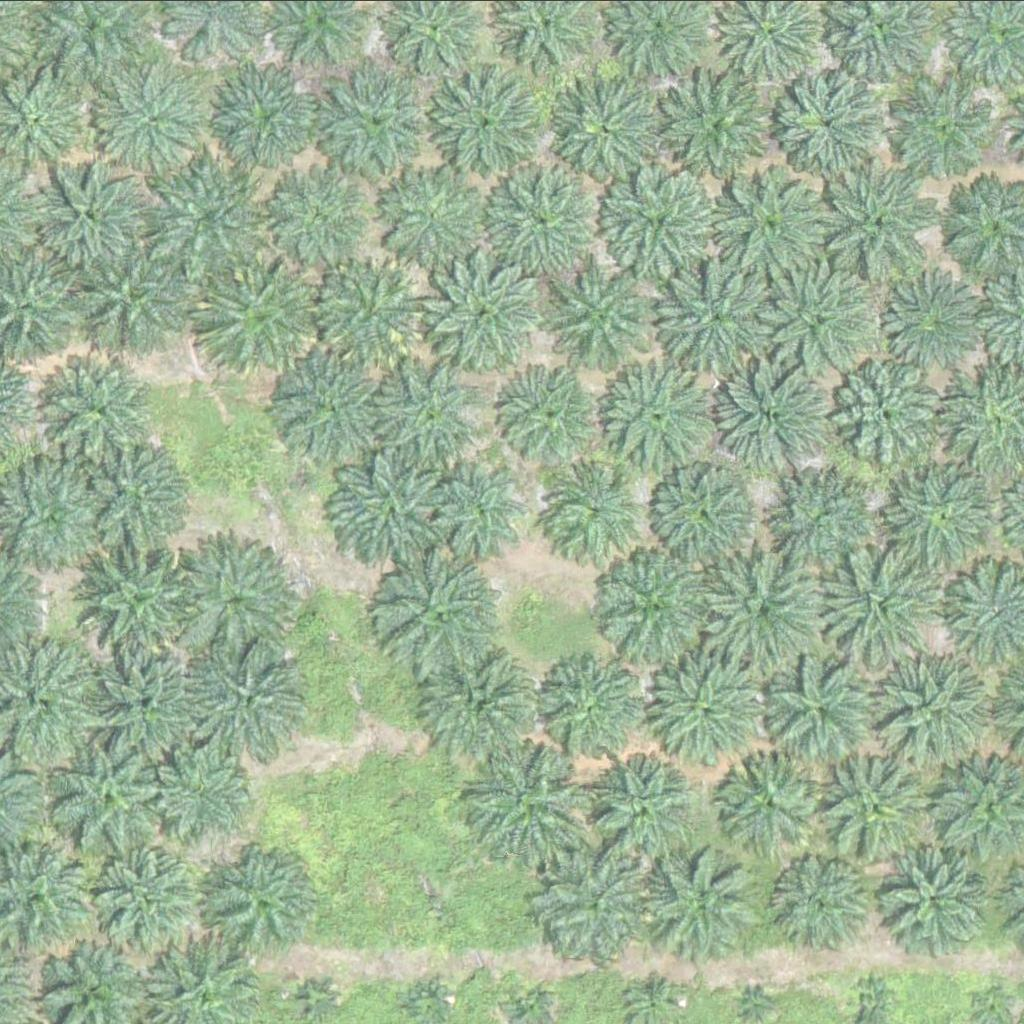Kelapa_Sawit: (50, 737, 176, 862), (186, 637, 312, 762), (71, 538, 197, 663), (175, 534, 301, 659), (329, 447, 455, 572), (382, 553, 508, 678), (467, 736, 593, 861), (700, 546, 826, 671), (590, 544, 716, 669), (868, 649, 994, 774), (816, 542, 942, 667), (204, 254, 329, 379), (87, 848, 201, 961), (149, 735, 263, 848), (421, 646, 535, 759), (206, 844, 319, 957), (79, 443, 192, 556), (36, 156, 149, 269), (216, 60, 329, 173), (427, 70, 540, 183), (423, 252, 536, 365), (550, 255, 663, 368), (663, 261, 776, 374), (597, 362, 710, 475), (771, 262, 884, 375), (714, 168, 827, 281), (648, 656, 761, 769), (765, 657, 878, 770), (829, 164, 942, 277), (874, 268, 987, 381), (719, 362, 833, 474), (820, 748, 934, 860), (94, 652, 207, 764), (42, 353, 155, 465), (72, 242, 185, 354), (159, 160, 272, 272), (548, 75, 661, 187), (666, 68, 779, 180), (375, 162, 488, 274), (485, 161, 598, 273), (601, 163, 714, 275), (779, 65, 892, 177), (540, 848, 653, 960), (646, 839, 759, 951), (896, 73, 1009, 185), (832, 354, 945, 466), (886, 459, 999, 571), (101, 65, 202, 165), (325, 70, 426, 170), (268, 167, 369, 267), (318, 261, 419, 361), (280, 351, 381, 451), (378, 363, 479, 463), (499, 367, 600, 467), (431, 461, 532, 561), (590, 758, 691, 858), (718, 752, 819, 852), (546, 463, 646, 563), (655, 465, 755, 565), (778, 480, 878, 580), (539, 659, 639, 759), (884, 847, 984, 947), (780, 855, 868, 942), (847, 973, 897, 1023), (747, 991, 772, 1016)
